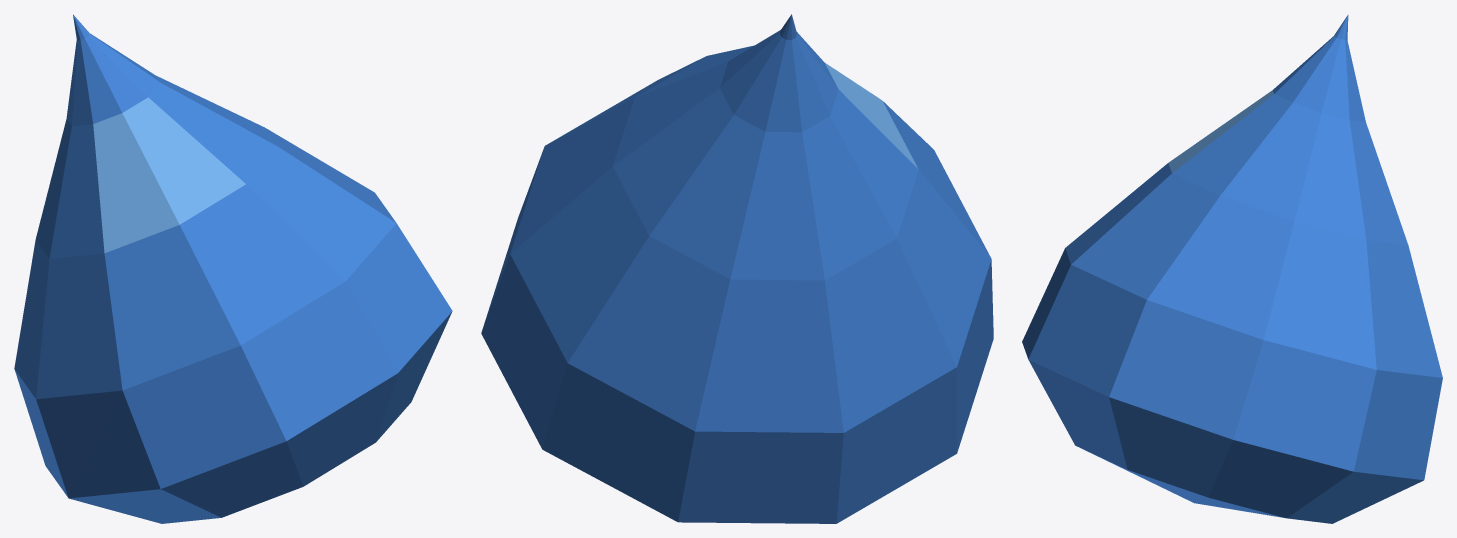
Rendered from water.glb.
3 renders of one model, left to right at view 1: azimuth 30°, elevation 25°; view 2: azimuth 150°, elevation 25°; view 3: azimuth 270°, elevation 25°, orthographic. The views are drawn at different scales.
Parts seen in each view (by area): view 1: water; view 2: water; view 3: water.
Part boxes in pixels (box(x1,y1,x2,y2)): water: box(14, 14, 452, 523); water: box(481, 14, 993, 523); water: box(1022, 14, 1442, 523).
Size of the model in its own units: 1.01 by 1.17 by 0.9786.
